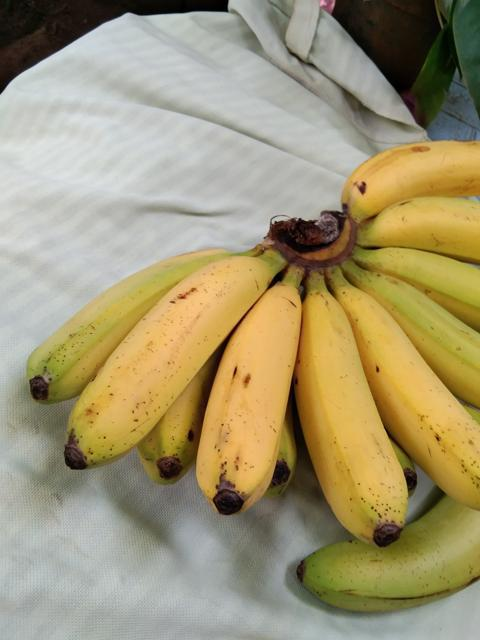ripe: (56, 232, 254, 480), (193, 283, 308, 521)
